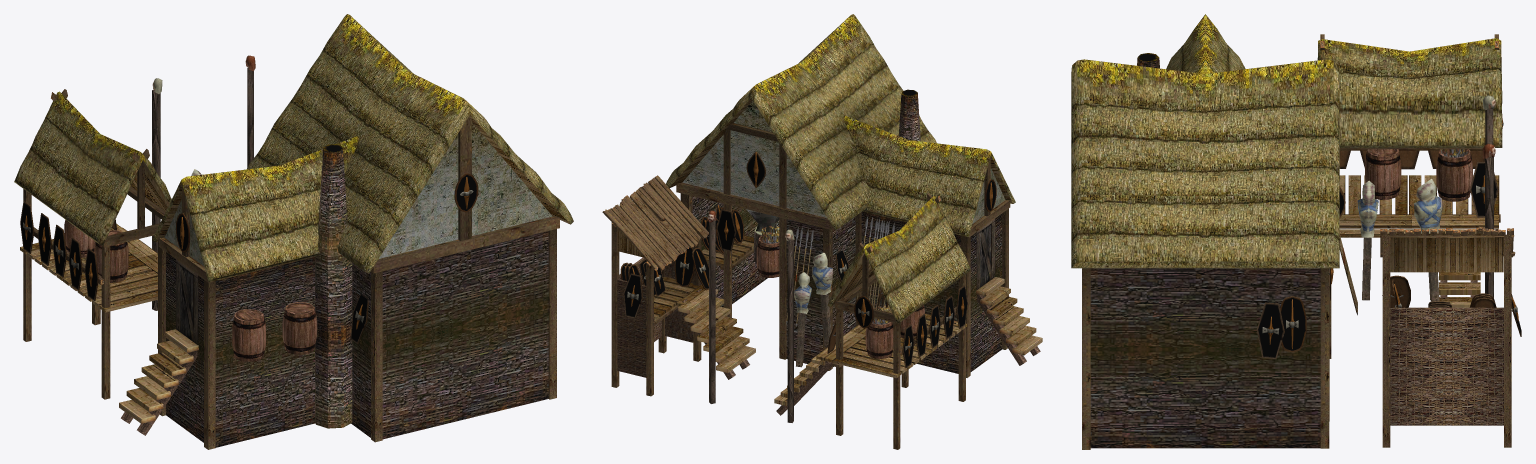
File: gaul_barracks.glb
3 renders of one model, left to right at view 1: azimuth 30°, elevation 25°; view 2: azimuth 150°, elevation 25°; view 3: azimuth 270°, elevation 25°, orthographic. The views are drawn at different scales.
Parts seen in each view (by area): view 1: gaul_barracks_part0, gaul_barracks_part1, gaul_barracks_part203, gaul_barracks_part2, gaul_barracks_part4, gaul_barracks_part3, gaul_barracks_part109, gaul_barracks_part7, gaul_barracks_part42; view 2: gaul_barracks_part0, gaul_barracks_part203, gaul_barracks_part1, gaul_barracks_part9, gaul_barracks_part7, gaul_barracks_part10, gaul_barracks_part5, gaul_barracks_part61, gaul_barracks_part57, gaul_barracks_part66; view 3: gaul_barracks_part0, gaul_barracks_part7, gaul_barracks_part3, gaul_barracks_part203, gaul_barracks_part10, gaul_barracks_part9, gaul_barracks_part91, gaul_barracks_part47, gaul_barracks_part37, gaul_barracks_part96.
Part boxes in pixels (x1,y1,x2,y2): gaul_barracks_part0: [14, 14, 573, 449]; gaul_barracks_part1: [121, 259, 198, 435]; gaul_barracks_part203: [152, 55, 255, 310]; gaul_barracks_part2: [282, 302, 317, 354]; gaul_barracks_part4: [232, 309, 265, 361]; gaul_barracks_part3: [94, 230, 128, 282]; gaul_barracks_part109: [454, 173, 478, 212]; gaul_barracks_part7: [64, 220, 95, 257]; gaul_barracks_part42: [350, 294, 368, 344]; gaul_barracks_part0: [602, 14, 1042, 449]; gaul_barracks_part203: [708, 210, 794, 422]; gaul_barracks_part1: [682, 219, 1040, 415]; gaul_barracks_part9: [812, 252, 832, 347]; gaul_barracks_part7: [865, 318, 893, 358]; gaul_barracks_part10: [794, 272, 811, 367]; gaul_barracks_part5: [756, 234, 779, 277]; gaul_barracks_part61: [623, 273, 642, 318]; gaul_barracks_part57: [716, 209, 736, 251]; gaul_barracks_part66: [674, 247, 694, 286]; gaul_barracks_part0: [1071, 14, 1515, 449]; gaul_barracks_part7: [1436, 149, 1472, 201]; gaul_barracks_part3: [1365, 149, 1401, 199]; gaul_barracks_part203: [1483, 95, 1495, 297]; gaul_barracks_part10: [1414, 178, 1442, 301]; gaul_barracks_part9: [1357, 180, 1378, 300]; gaul_barracks_part91: [1280, 296, 1306, 352]; gaul_barracks_part47: [1256, 302, 1284, 358]; gaul_barracks_part37: [1470, 161, 1498, 217]; gaul_barracks_part96: [1382, 275, 1410, 307].
Size of the model in its own units: 4 by 3.23 by 3.84.
Materials: 13 (13 with a texture image).
